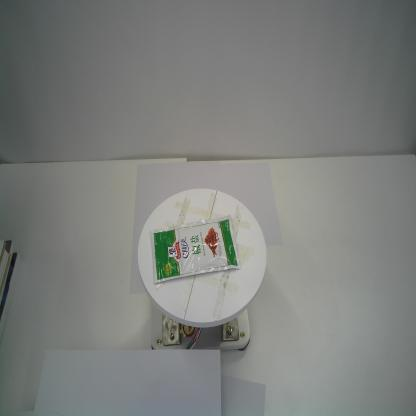Seasoner: (150, 214, 242, 283)
